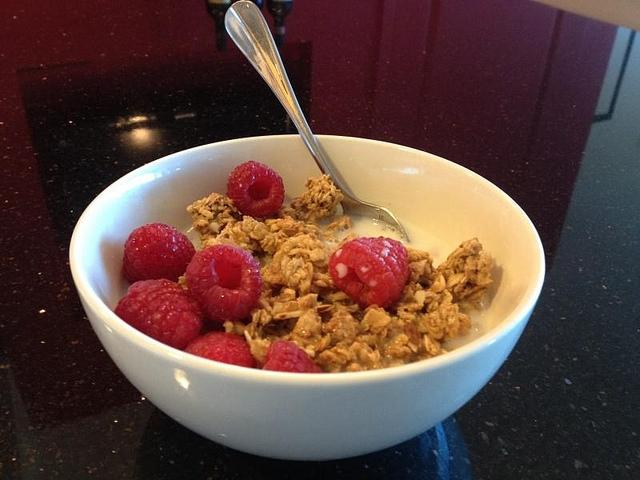raspberry: (185, 244, 262, 331), (115, 278, 205, 350), (329, 236, 411, 308), (122, 222, 196, 285), (227, 161, 285, 222), (180, 331, 256, 368), (262, 340, 323, 373)
